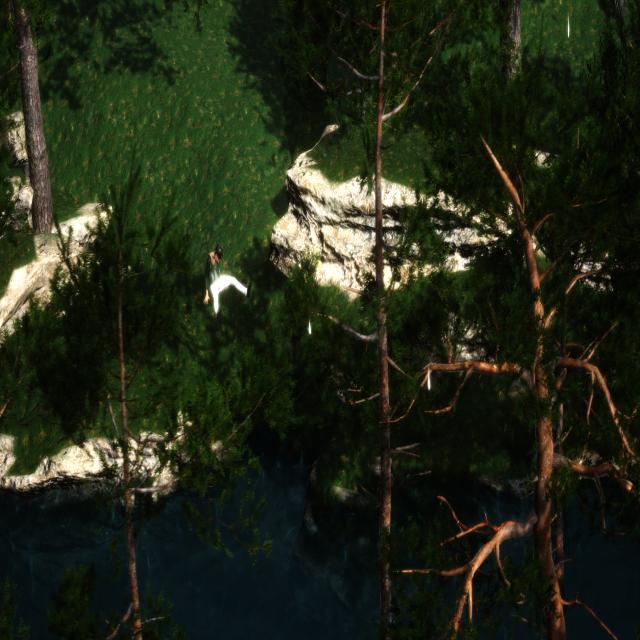Human: (201, 240, 253, 318)
